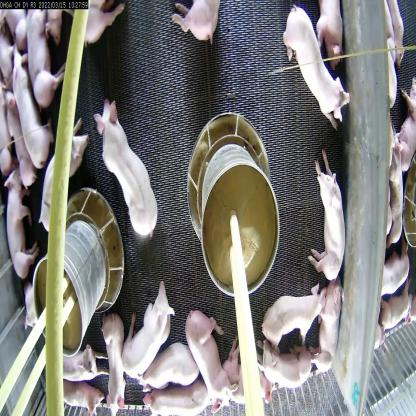Pig: (95, 88, 163, 243), (274, 0, 351, 132), (120, 265, 178, 384), (181, 302, 238, 416), (307, 136, 346, 284), (8, 40, 51, 169), (3, 167, 43, 274), (24, 5, 68, 102), (259, 281, 326, 343), (135, 331, 201, 391), (259, 336, 317, 404), (99, 304, 132, 416), (311, 278, 343, 376), (171, 0, 224, 50), (142, 380, 212, 415), (396, 68, 415, 172), (316, 0, 344, 64)
